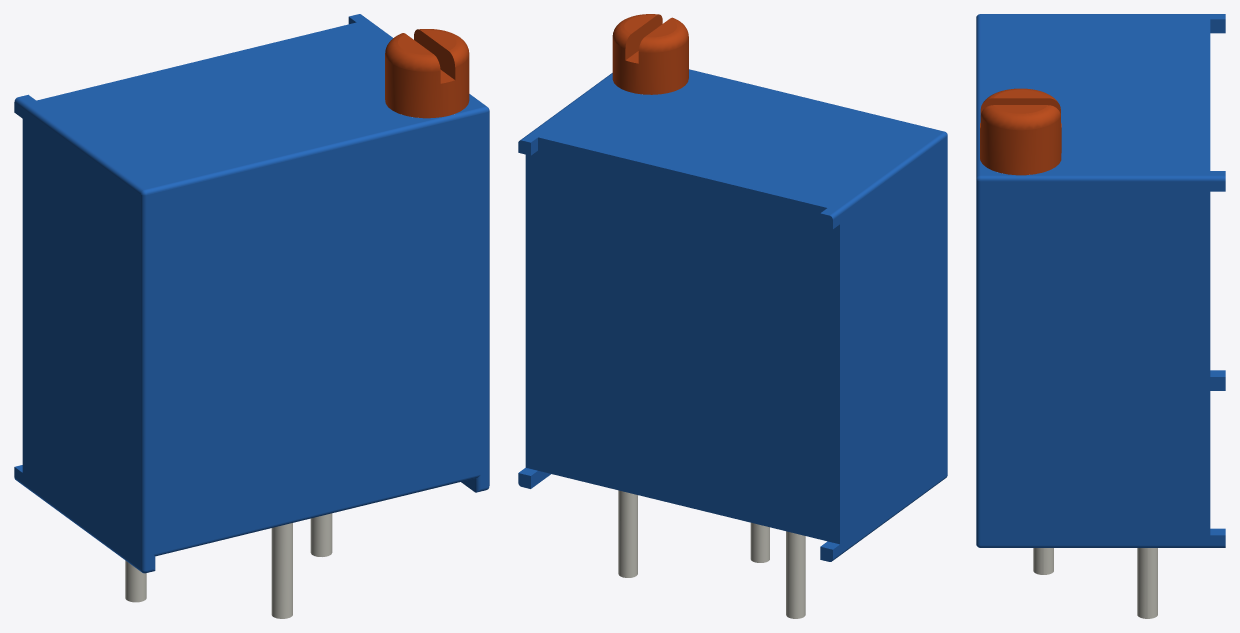
The model's file is kc-potentiometer_bourns_3299y_vertical.glb.
3 views of the same model, side by side, from view 1: azimuth 30°, elevation 25°; view 2: azimuth 150°, elevation 25°; view 3: azimuth 270°, elevation 25° (orthographic). The views are drawn at different scales.
Visible parts, largest first — view 1: 0_0.16666666666666666_0.5_0, 0.4166666666666667_0.08333333333333333_0_0, 0.6666666666666666_0.6666666666666666_0.5833333333333334_0.8; view 2: 0_0.16666666666666666_0.5_0, 0.4166666666666667_0.08333333333333333_0_0, 0.6666666666666666_0.6666666666666666_0.5833333333333334_0.8; view 3: 0_0.16666666666666666_0.5_0, 0.4166666666666667_0.08333333333333333_0_0, 0.6666666666666666_0.6666666666666666_0.5833333333333334_0.8.
Part boxes in pixels (x1=…): 0_0.16666666666666666_0.5_0: x1=14, y1=14, x2=489, y2=573; 0.4166666666666667_0.08333333333333333_0_0: x1=385, y1=29, x2=469, y2=118; 0.6666666666666666_0.6666666666666666_0.5833333333333334_0.8: x1=125, y1=513, x2=332, y2=618; 0_0.16666666666666666_0.5_0: x1=518, y1=69, x2=947, y2=561; 0.4166666666666667_0.08333333333333333_0_0: x1=612, y1=14, x2=688, y2=94; 0.6666666666666666_0.6666666666666666_0.5833333333333334_0.8: x1=618, y1=490, x2=805, y2=618; 0_0.16666666666666666_0.5_0: x1=976, y1=14, x2=1225, y2=547; 0.4166666666666667_0.08333333333333333_0_0: x1=980, y1=88, x2=1061, y2=175; 0.6666666666666666_0.6666666666666666_0.5833333333333334_0.8: x1=1033, y1=548, x2=1157, y2=618.
Size of the model in its own units: 0.953 by 1.43 by 0.6101.
